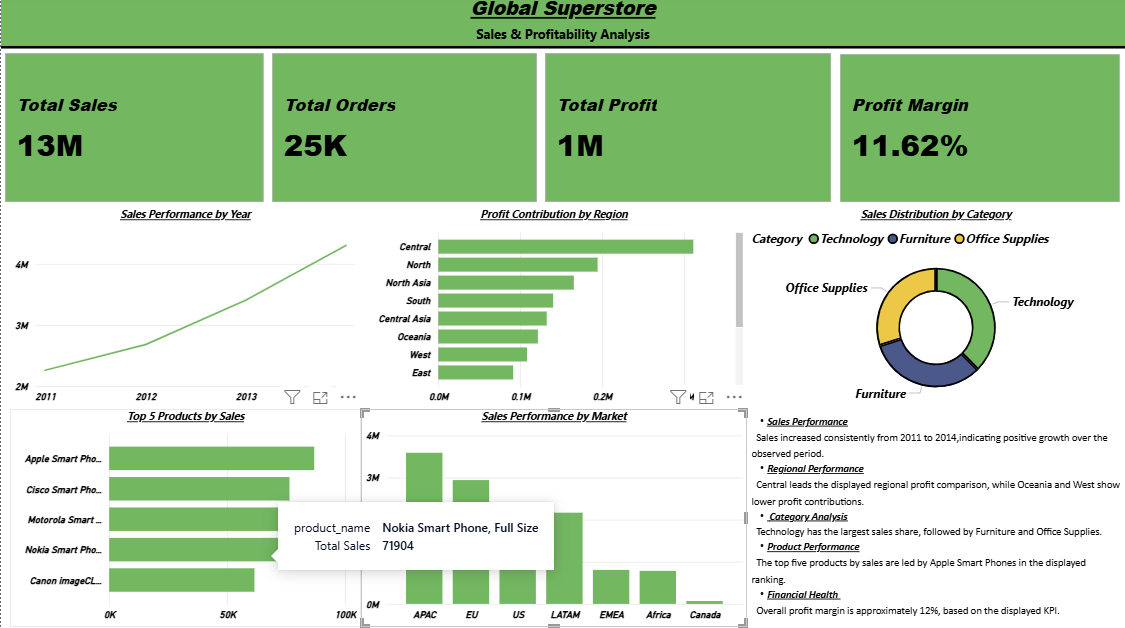

What the dashboard file says about the page in this screenshot:
{"tool":"powerbi","page":{"name":"Page 1","canvas":[1280,720],"ordinal":0},"visuals":[{"type":"textbox","title":"Global Superstore","box":[10.3,0,1269.7,78.4],"z":0},{"type":"cardVisual","fields":{"Data":["SuperStoreOrders.Total Orders"]},"box":[304.6,61.7,311,179.9],"z":1000},{"type":"cardVisual","fields":{"Data":["SuperStoreOrders.Total Profit"]},"box":[615.6,61.7,335.4,179.9],"z":2000},{"type":"cardVisual","fields":{"Data":["SuperStoreOrders.Total Sales"]},"box":[0,61.7,304.6,179.9],"z":3000},{"type":"cardVisual","fields":{"Data":["SuperStoreOrders.Profit Margin"]},"box":[951,63,329,178.6],"z":4000},{"type":"lineChart","title":"Sales Performance by Year","fields":{"Category":["SuperStoreOrders.year"],"Y":["SuperStoreOrders.Total Sales"]},"box":[10.3,241.6,399.7,230],"z":5000},{"type":"clusteredBarChart","title":" Profit Contribution by Region","fields":{"Category":["SuperStoreOrders.region"],"Y":["SuperStoreOrders.Total Profit"]},"box":[410,241.6,439.5,230],"z":6000},{"type":"donutChart","title":" Sales Distribution by Category","fields":{"Category":["SuperStoreOrders.category"],"Y":["SuperStoreOrders.Total Sales"]},"box":[849.5,241.6,430.5,230],"z":7000},{"type":"clusteredBarChart","title":"Top 5 Products by Sales","fields":{"Category":["SuperStoreOrders.product_name"],"Y":["SuperStoreOrders.Total Sales"]},"box":[10.3,471.6,399.7,248],"z":8000},{"type":"clusteredColumnChart","title":"Sales Performance by Market","fields":{"Category":["SuperStoreOrders.market"],"Y":["SuperStoreOrders.Total Sales"]},"box":[410,471.6,439.5,248],"z":9000},{"type":"textbox","box":[850,472,430,248],"z":10000}]}

Visuals, with their boxes in screenshot pixels (x1, y1, x2, y2), scaled from the page's 1280x720 canvas onto the 1125x628 screenshot:
"Global Superstore" textbox: bbox=(9, 0, 1124, 68)
cardVisual - SuperStoreOrders.Total Orders: bbox=(268, 54, 541, 211)
cardVisual - SuperStoreOrders.Total Profit: bbox=(541, 54, 836, 211)
cardVisual - SuperStoreOrders.Total Sales: bbox=(0, 54, 268, 211)
cardVisual - SuperStoreOrders.Profit Margin: bbox=(836, 55, 1124, 211)
"Sales Performance by Year" lineChart: bbox=(9, 211, 360, 411)
" Profit Contribution by Region" clusteredBarChart: bbox=(360, 211, 747, 411)
" Sales Distribution by Category" donutChart: bbox=(747, 211, 1124, 411)
"Top 5 Products by Sales" clusteredBarChart: bbox=(9, 411, 360, 627)
"Sales Performance by Market" clusteredColumnChart: bbox=(360, 411, 747, 627)
textbox: bbox=(747, 412, 1124, 627)
